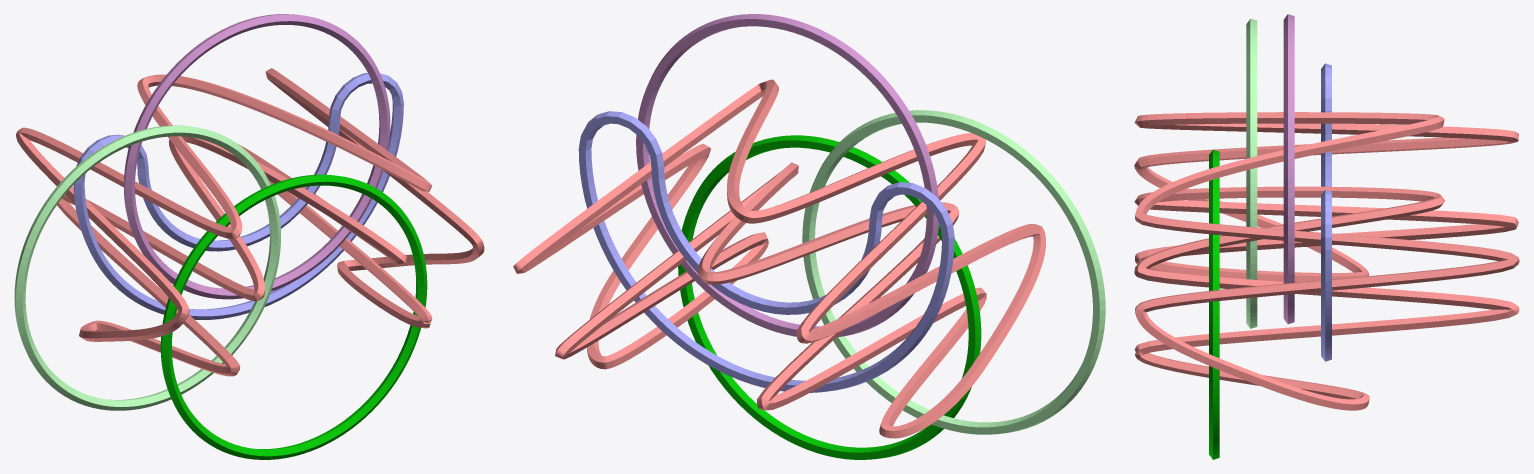
The model's file is 5BrunnVenn.gltf.
3 views of the same model, side by side, from view 1: azimuth 30°, elevation 25°; view 2: azimuth 150°, elevation 25°; view 3: azimuth 270°, elevation 25° (orthographic). The views are drawn at different scales.
Size of the model in its own units: 3.33 by 3.08 by 2.58.
